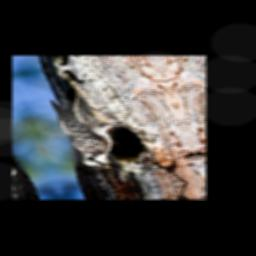Woodpecker: (37, 74, 141, 178)
